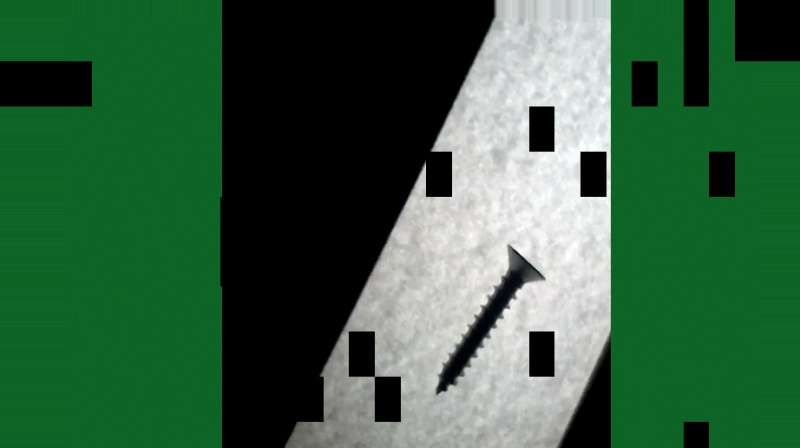S001: (432, 240, 549, 399)
